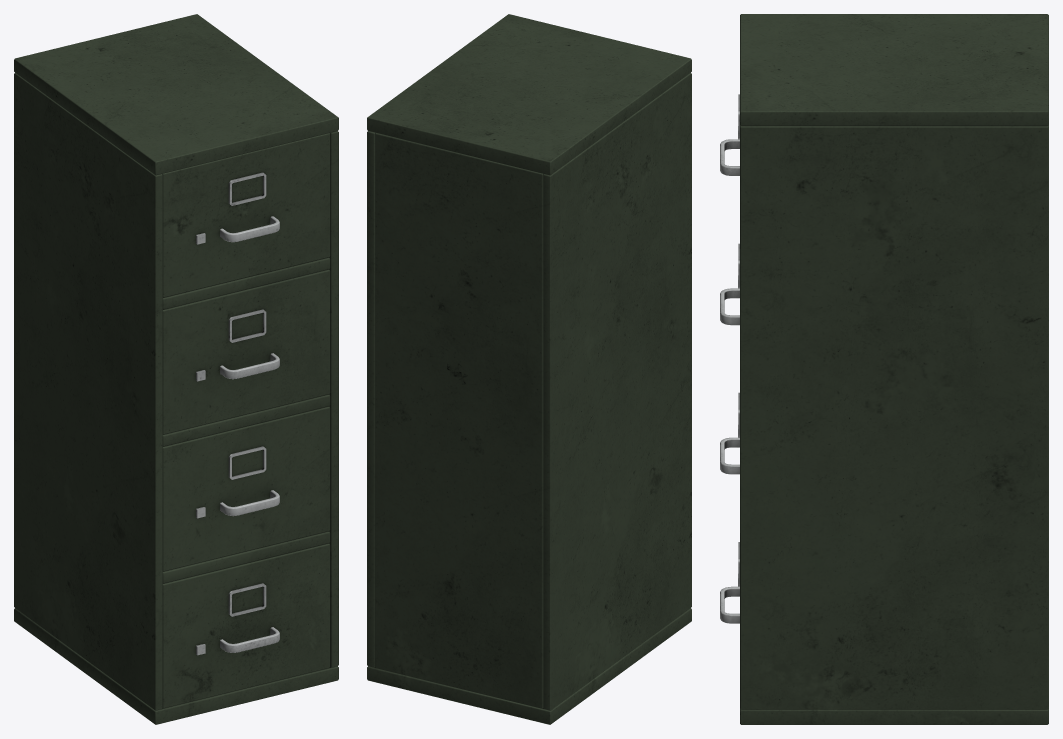
File: Filing_Cabinet_1B.fbx
3 views of the same model, side by side, from view 1: azimuth 30°, elevation 25°; view 2: azimuth 150°, elevation 25°; view 3: azimuth 270°, elevation 25° (orthographic). The views are drawn at different scales.
Visible parts, largest first — view 1: body1, body2, interior_correction; view 2: body1; view 3: body1, body2.
Part boxes in pixels (x1=…): body1: x1=14, y1=14, x2=338, y2=724; body2: x1=162, y1=133, x2=330, y2=708; interior_correction: x1=162, y1=133, x2=330, y2=667; body1: x1=367, y1=14, x2=691, y2=724; body1: x1=740, y1=14, x2=1048, y2=724; body2: x1=720, y1=94, x2=739, y2=623.
Size of the model in its own units: 52.84 by 156 by 74.99.
